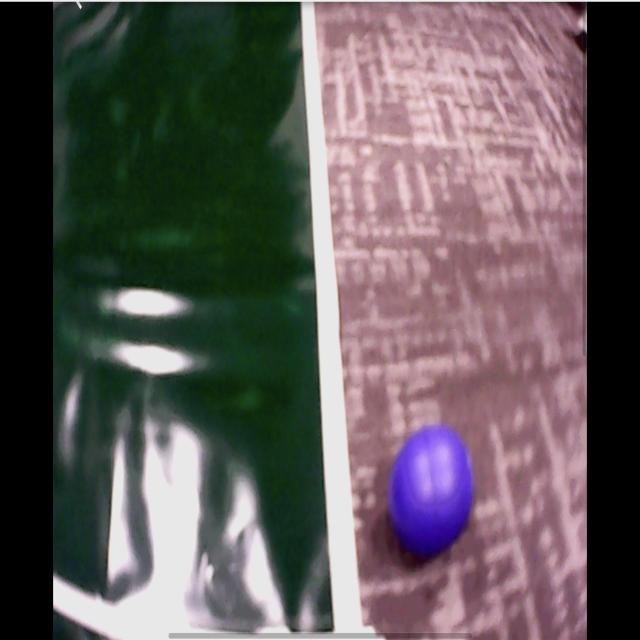ball: (389, 428, 473, 554)
